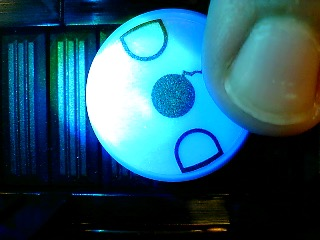CRACK: (85, 8, 262, 181)
